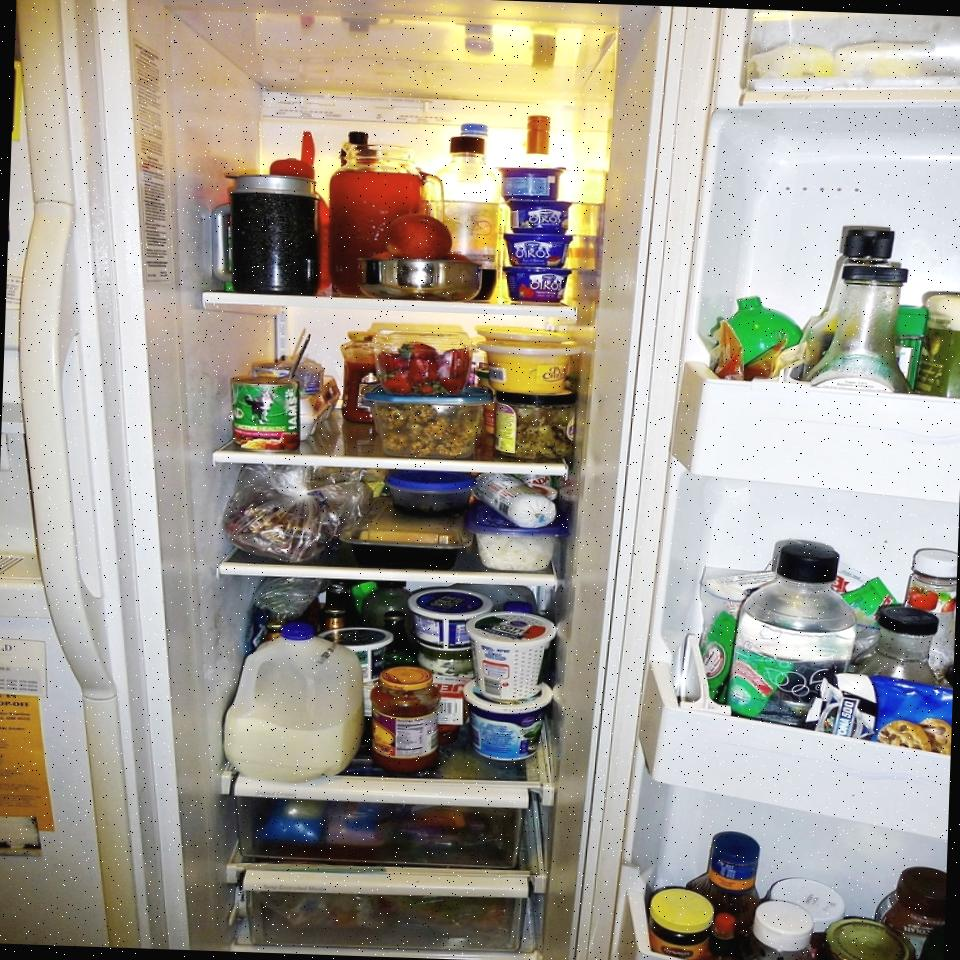Leche: (219, 618, 367, 788)
